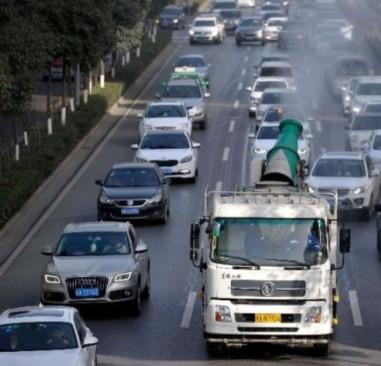car: (39, 220, 151, 315), (1, 300, 97, 366), (301, 151, 381, 219), (94, 162, 171, 222), (129, 127, 201, 183), (246, 120, 314, 174), (153, 78, 211, 128), (135, 98, 193, 141), (254, 104, 311, 140), (244, 75, 293, 116), (329, 55, 371, 99), (159, 64, 210, 99), (253, 86, 301, 123), (345, 72, 381, 116), (341, 113, 381, 150), (252, 60, 297, 92), (172, 52, 210, 82), (253, 51, 293, 79), (186, 15, 223, 45), (276, 18, 312, 48), (233, 16, 267, 45), (353, 99, 381, 133), (262, 15, 295, 41), (322, 16, 353, 41), (151, 5, 183, 29), (363, 129, 381, 169), (213, 8, 243, 32)
